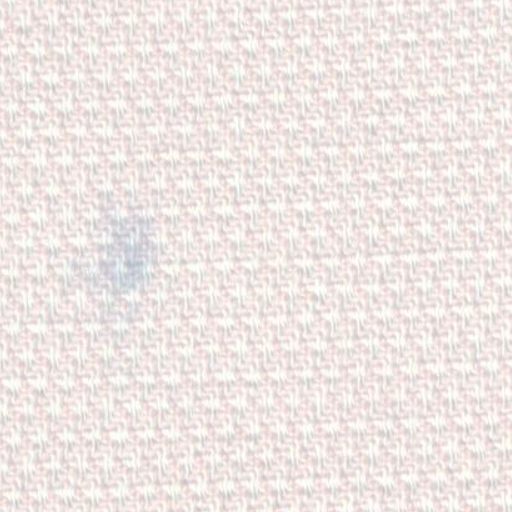WuZi: (52, 191, 184, 319)
